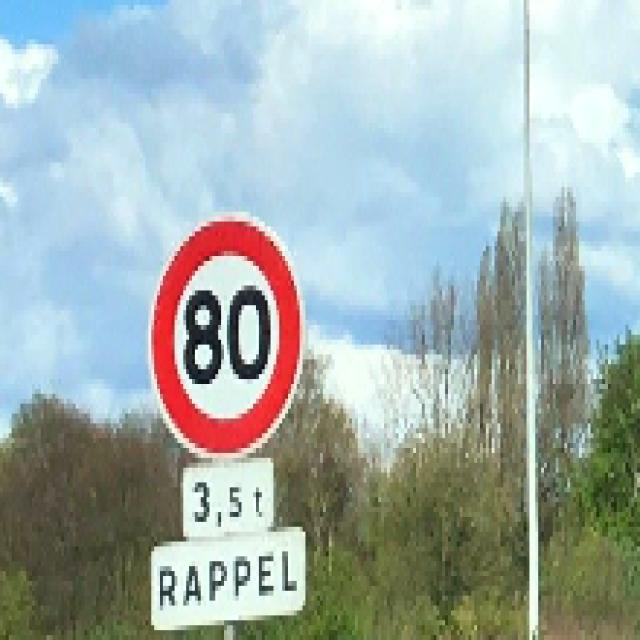speed_80: (148, 207, 308, 461)
